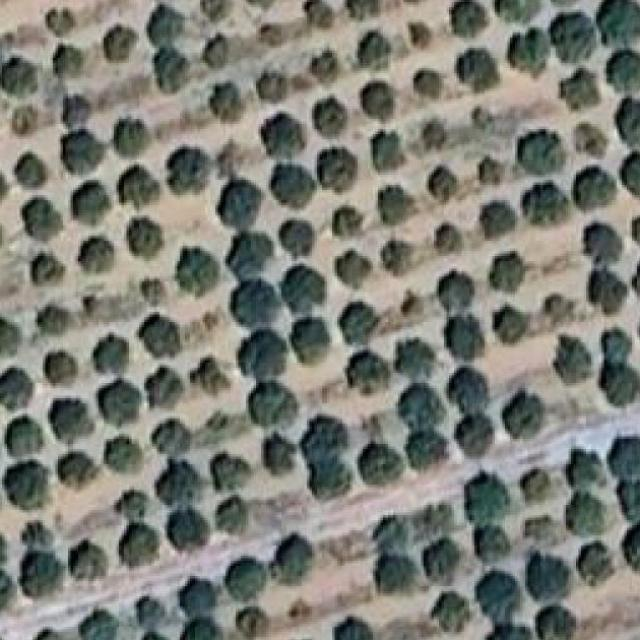Tree: (302, 416, 352, 501), (20, 522, 65, 598), (233, 327, 290, 380), (162, 503, 216, 552), (230, 279, 282, 328), (551, 12, 596, 67), (475, 571, 522, 620), (400, 383, 447, 432), (219, 180, 264, 231), (271, 533, 315, 585), (464, 469, 511, 517), (249, 382, 299, 427), (226, 234, 274, 280), (281, 266, 326, 315), (518, 129, 565, 175), (5, 462, 50, 510), (528, 554, 573, 602), (442, 312, 485, 362), (99, 378, 143, 426), (178, 249, 221, 298), (61, 129, 106, 175), (271, 165, 317, 210), (261, 114, 306, 159), (457, 48, 502, 93), (596, 0, 640, 46), (51, 398, 95, 444), (523, 183, 570, 226), (155, 457, 202, 500), (508, 28, 550, 76), (503, 391, 544, 440), (147, 0, 188, 48), (168, 148, 211, 193), (346, 351, 391, 394), (361, 442, 405, 485), (574, 167, 616, 212), (292, 317, 332, 364), (553, 335, 591, 384), (139, 315, 181, 359), (226, 558, 267, 603), (320, 146, 360, 192), (119, 522, 159, 568), (588, 269, 627, 316), (147, 51, 189, 94), (520, 464, 562, 506), (119, 165, 160, 208), (22, 198, 63, 241), (599, 363, 640, 406), (574, 541, 614, 585), (564, 449, 604, 492), (561, 68, 601, 111), (144, 366, 184, 408), (454, 414, 493, 457), (566, 493, 605, 536), (448, 371, 491, 410), (437, 271, 481, 309), (424, 539, 460, 585), (340, 302, 380, 343), (5, 417, 45, 458), (210, 452, 251, 492), (396, 337, 436, 378), (376, 553, 417, 593), (73, 183, 112, 225), (137, 596, 173, 640), (583, 223, 622, 263), (70, 541, 109, 581), (0, 58, 38, 98), (152, 419, 192, 457), (93, 334, 130, 375), (178, 574, 215, 615), (490, 251, 526, 292), (405, 432, 446, 468), (606, 51, 640, 94), (0, 368, 34, 411), (473, 523, 511, 561), (432, 594, 468, 634), (264, 434, 298, 476), (335, 251, 372, 289), (279, 220, 315, 259), (378, 185, 413, 225), (376, 510, 411, 550), (599, 325, 634, 365), (132, 217, 166, 258), (535, 606, 576, 640), (452, 0, 489, 37), (493, 305, 529, 343), (58, 453, 97, 488), (315, 97, 349, 137), (78, 236, 114, 273), (608, 436, 640, 477), (104, 25, 139, 62), (107, 437, 142, 474), (114, 119, 149, 156), (193, 355, 231, 389), (540, 292, 578, 326), (371, 131, 402, 172), (417, 119, 454, 153), (358, 31, 391, 69), (483, 204, 518, 239), (15, 151, 49, 187), (616, 98, 640, 149), (381, 239, 415, 275), (213, 83, 245, 121), (215, 495, 247, 533), (363, 83, 394, 122), (46, 349, 79, 385), (80, 609, 118, 640), (236, 606, 269, 640), (116, 487, 149, 521), (31, 254, 66, 286), (523, 515, 558, 547), (614, 479, 640, 521), (474, 152, 509, 183), (494, 0, 540, 23), (332, 205, 364, 238), (179, 616, 223, 640), (256, 20, 291, 50), (429, 168, 458, 204), (38, 304, 72, 334), (63, 96, 92, 131), (310, 50, 339, 85), (53, 46, 83, 79), (621, 523, 640, 573), (203, 35, 230, 70), (258, 71, 287, 103), (576, 124, 604, 156), (434, 222, 462, 253), (621, 152, 640, 197), (413, 71, 442, 100), (46, 10, 76, 38), (487, 621, 531, 640), (334, 618, 372, 640), (12, 106, 39, 136), (306, 0, 332, 28), (0, 319, 19, 355), (469, 104, 493, 132), (142, 279, 166, 306), (202, 0, 231, 21), (347, 0, 379, 19), (410, 22, 431, 48), (0, 568, 11, 613), (32, 627, 62, 640), (632, 256, 640, 297), (632, 210, 640, 246)
